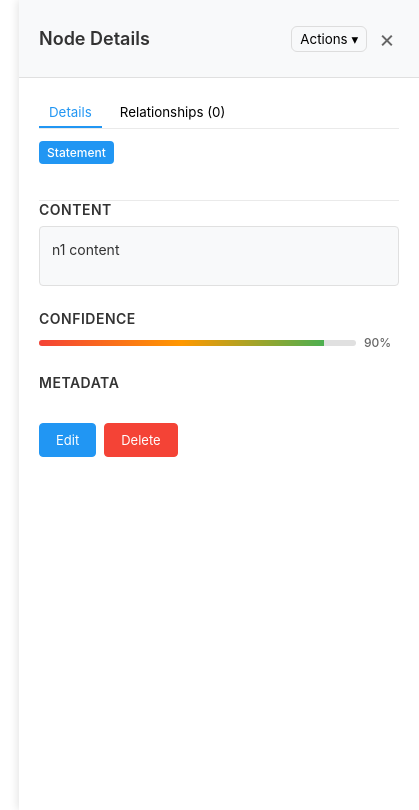
NodeDetailPanel relationships tab › says so when there are no relationships
Press the mouse on the tab "Relationships (0)" at (173, 113), box [110,98,235,128]
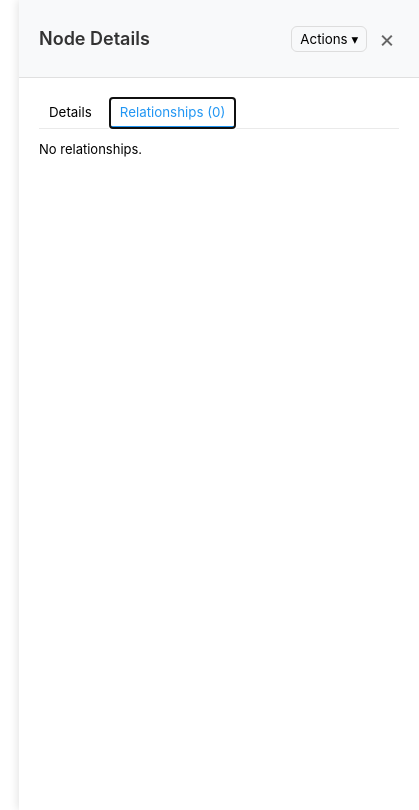
Expected: the text "No relationships." is shown, [39,141,142,157]
